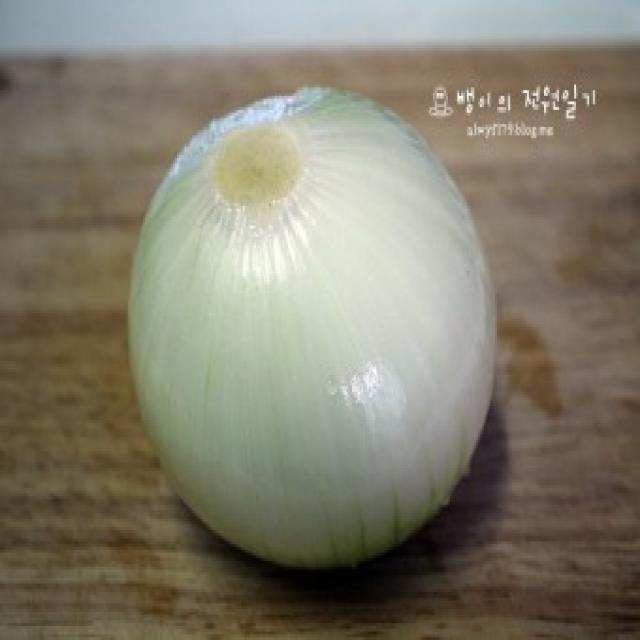onion: (99, 66, 532, 582)
